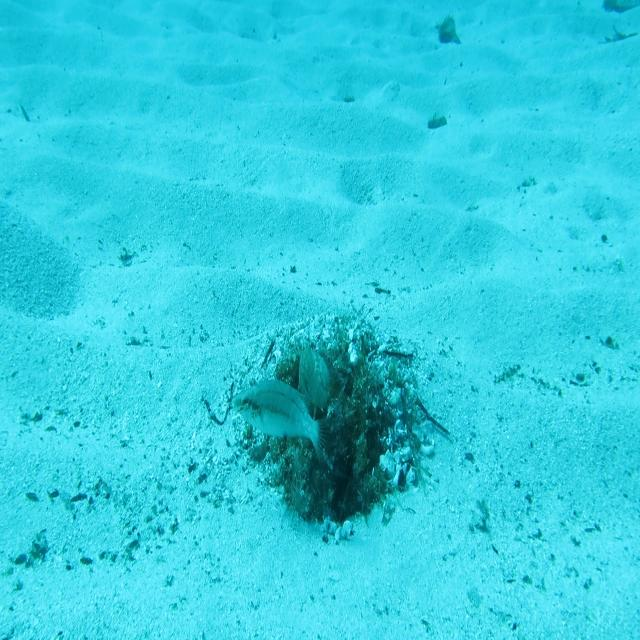NIP_IN: (292, 338, 332, 422)
female: (230, 376, 332, 470)
nest: (226, 296, 439, 550)
vegetation: (593, 0, 639, 47), (434, 17, 464, 49), (428, 111, 449, 134)
